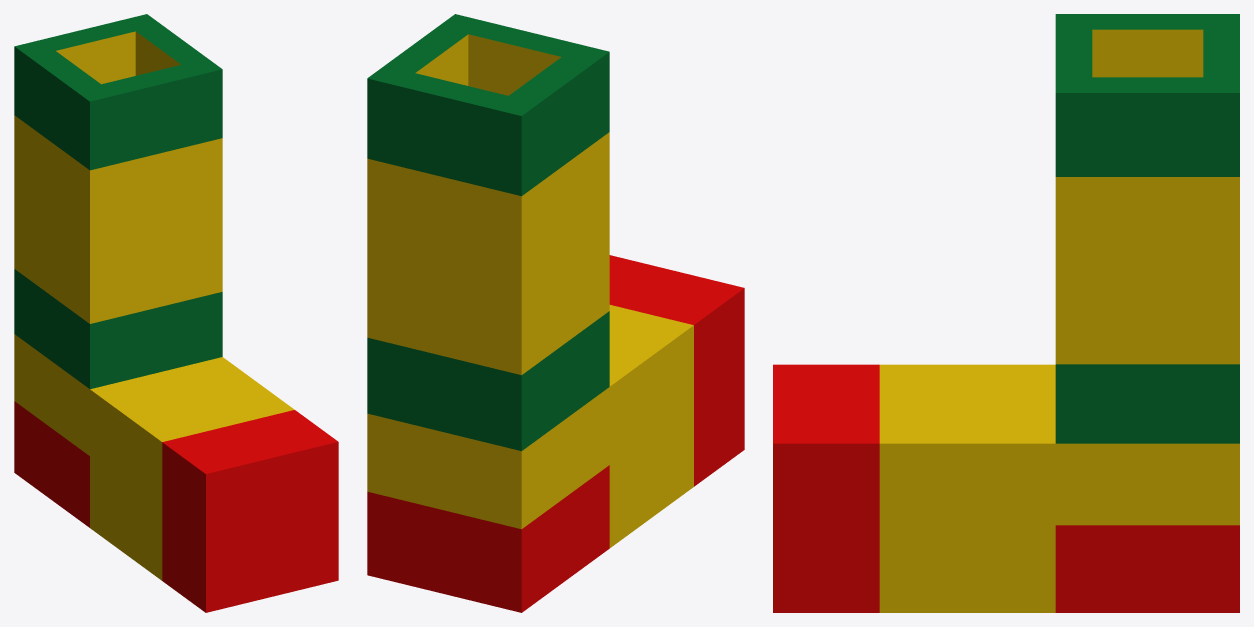
Rendered from 023 Socks.fbx.
3 renders of one model, left to right at view 1: azimuth 30°, elevation 25°; view 2: azimuth 150°, elevation 25°; view 3: azimuth 270°, elevation 25°, orthographic. The views are drawn at different scales.
Visible parts, largest first — view 1: Lowpoly_Christmas_Pack_023:pCube1; view 2: Lowpoly_Christmas_Pack_023:pCube1; view 3: Lowpoly_Christmas_Pack_023:pCube1.
Boxes of the visible parts, x1,y1,x2,y2 form: Lowpoly_Christmas_Pack_023:pCube1: [14, 14, 338, 612]; Lowpoly_Christmas_Pack_023:pCube1: [367, 14, 744, 612]; Lowpoly_Christmas_Pack_023:pCube1: [773, 14, 1239, 612].
Size of the model in its own units: 0.5 by 1.54 by 1.25.
